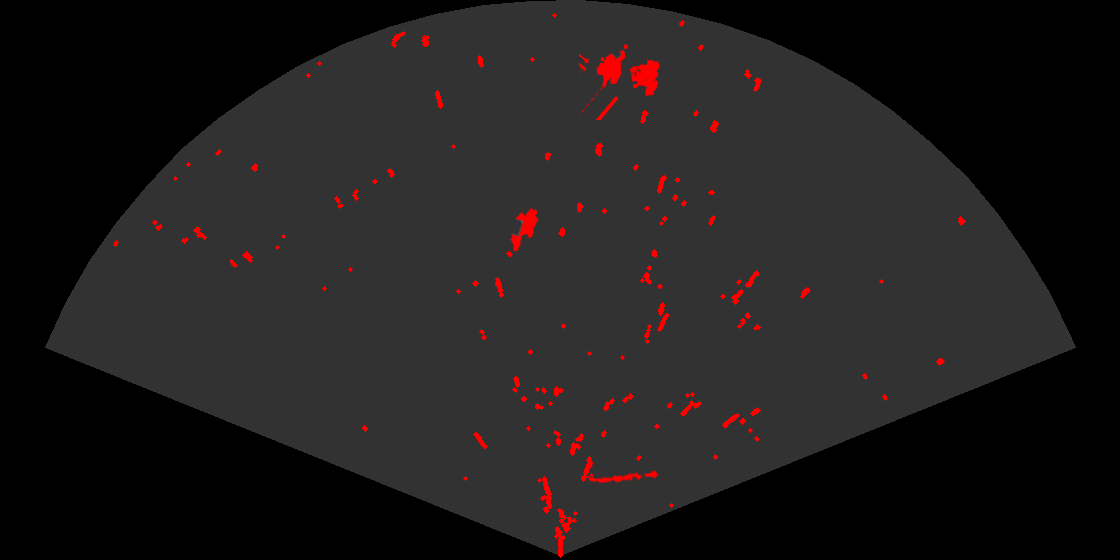AUV: (509, 206, 540, 253)
cage: (579, 43, 661, 120)
chain: (586, 469, 659, 485)
